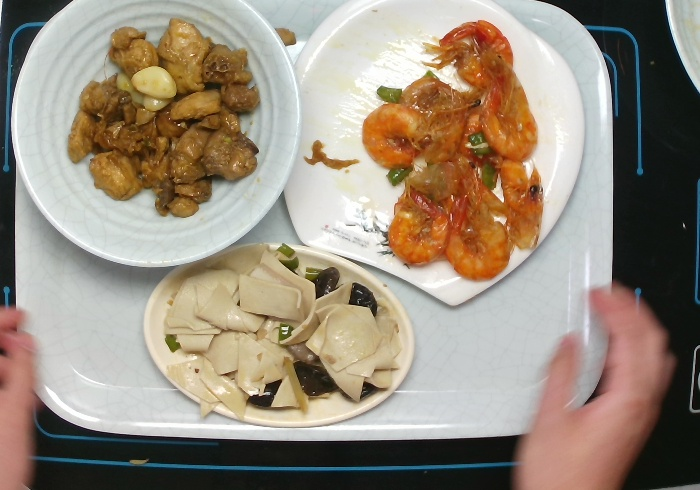JYsf-Tuo_Yuan_Wan: (137, 236, 417, 430)
JYsf-Xiao_Tang_Wan: (8, 1, 300, 276)
WCQzf-Mian_Bing: (283, 1, 589, 310)
